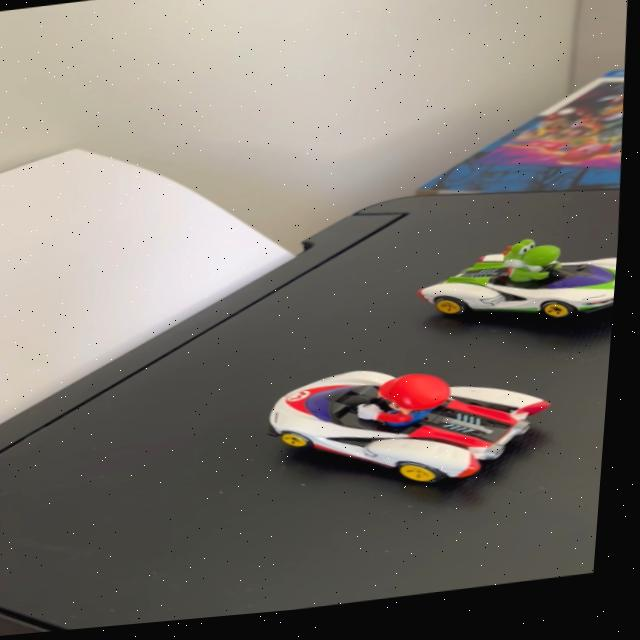mario: (230, 351, 582, 524)
yoshi: (413, 233, 624, 349)
